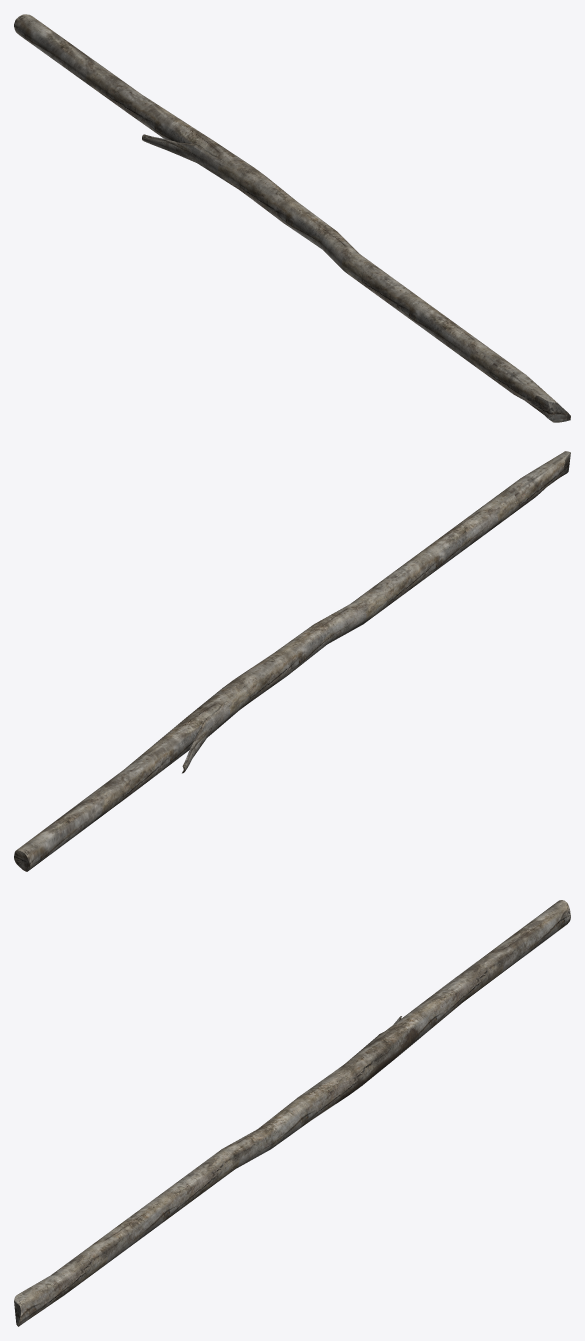
The model's file is SM_Twigs_3.fbx.
3 renders of one model, top to bottom at view 1: azimuth 30°, elevation 25°; view 2: azimuth 150°, elevation 25°; view 3: azimuth 330°, elevation 25°, orthographic. The views are drawn at different scales.
Parts seen in each view (by area): view 1: SM_Twigs_3_LOD0; view 2: SM_Twigs_3_LOD0; view 3: SM_Twigs_3_LOD0.
Part boxes in pixels (x1,y1,x2,y2): SM_Twigs_3_LOD0: [14, 14, 570, 422]; SM_Twigs_3_LOD0: [14, 451, 570, 871]; SM_Twigs_3_LOD0: [14, 900, 570, 1326].
Bounding box in the file's own units: 4.95 × 112 × 2.79.
